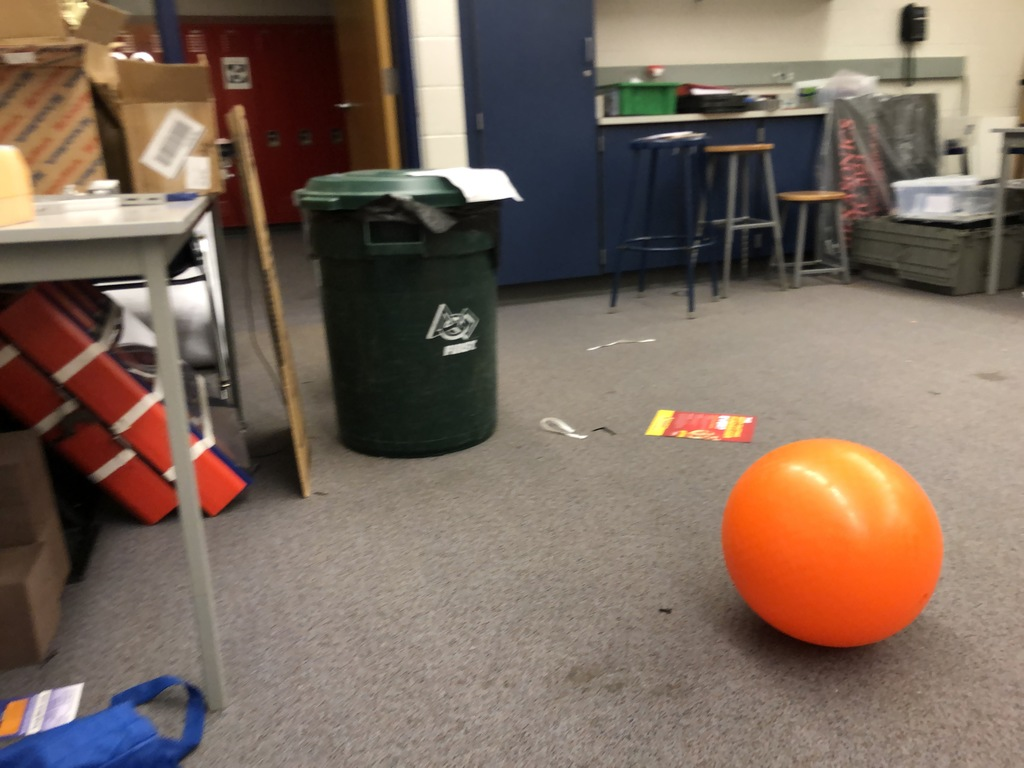cargo: (720, 424, 946, 658)
